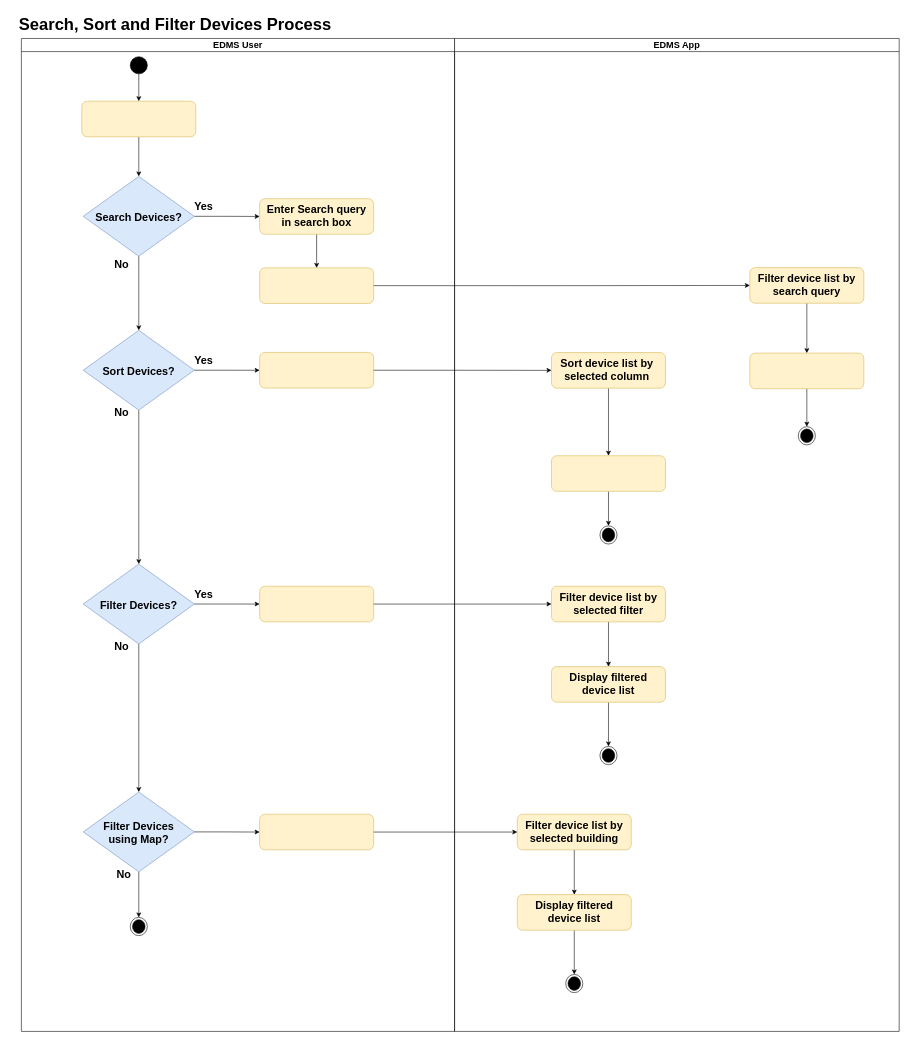
Some shapes in this 909 by 1041 pixel diagram are drawn without their labels. Here are the shapes that lost their labels. From the top down, the centre of each, then its label:
At [138,119]: "Navigate to Dashboard".
At [316,285]: "Select search button".
At [316,370]: "Select Table column header".
At [806,371]: "Display updated device list".
At [608,473]: "Display sorted device list".
At [316,604]: "Select a Filter from a dropdown".
At [316,832]: "Select a Building in the map".
